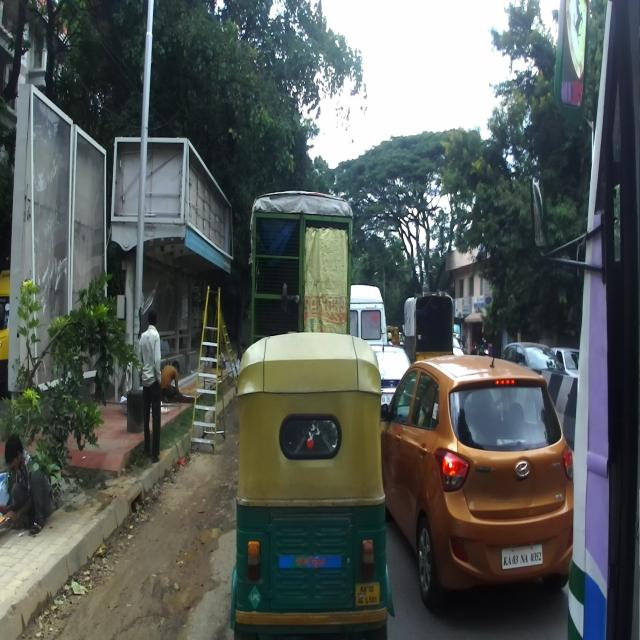Car_Hyundai: (381, 331, 575, 608)
autorickshaw: (229, 331, 395, 638)
bus: (528, 0, 638, 636)
